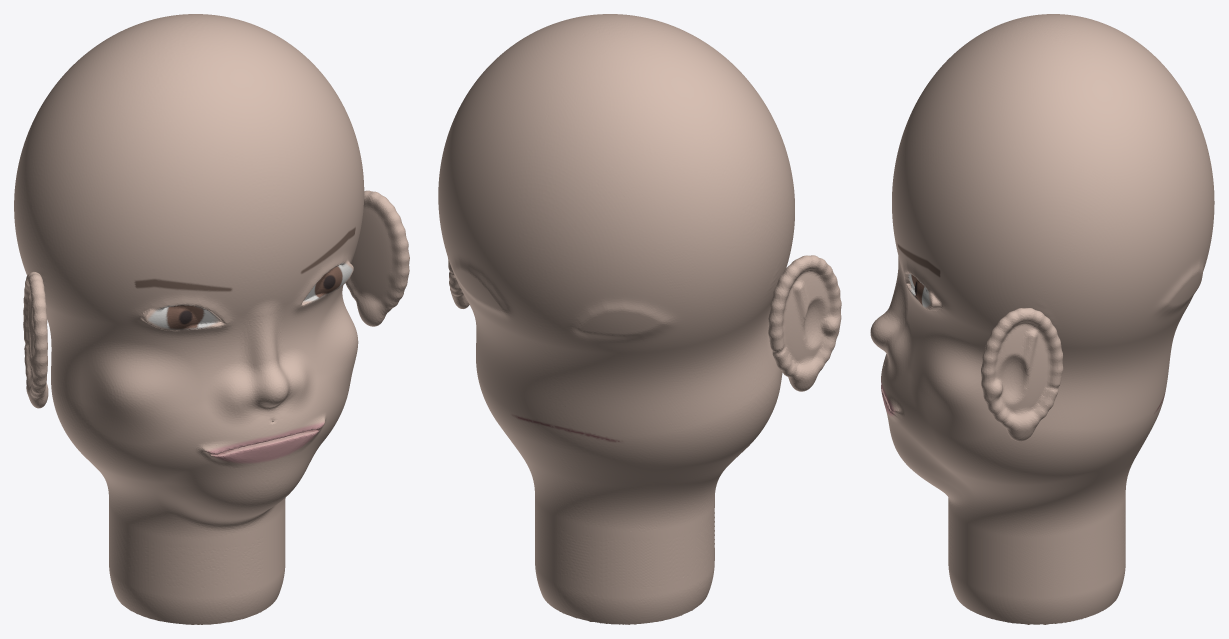
Rendered from karma_face_stage1_M_neutral_EXPERIMENT.glb.
3 renders of one model, left to right at view 1: azimuth 30°, elevation 25°; view 2: azimuth 150°, elevation 25°; view 3: azimuth 270°, elevation 25°, orthographic.
Parts seen in each view (by area): view 1: head; view 2: head; view 3: head.
Boxes of the visible parts, x1,y1,x2,y2 form: head: (14,14,409,624); head: (438,14,841,624); head: (870,14,1214,624).
Bounding box in the file's own units: 2.7 × 3.83 × 2.13.
